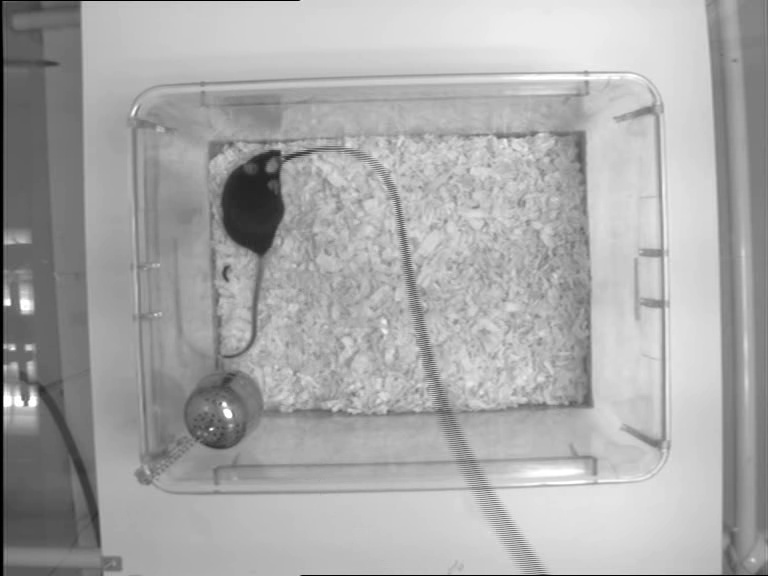mice: (217, 146, 284, 359)
